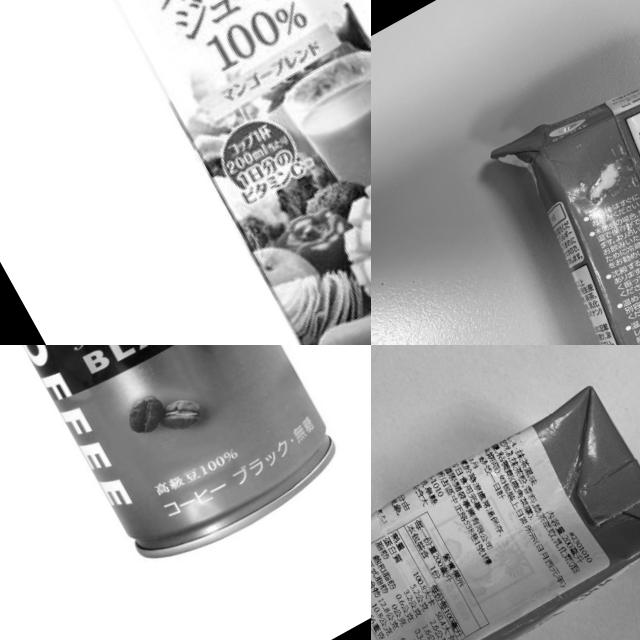Aluminium Foil: (59, 0, 371, 345), (371, 380, 640, 640), (473, 42, 640, 345)
Can: (0, 345, 357, 596)
